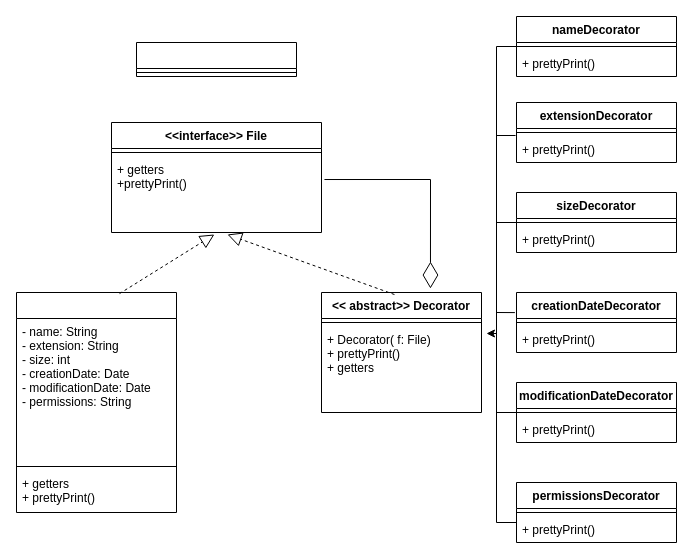
This 693x559 diagram has some shape labels left out. Here are the shapes that lost their labels. From the top down, the box of each, then its label:
(136, 42, 296, 76): FileManager
(16, 292, 176, 512): FileOO2
